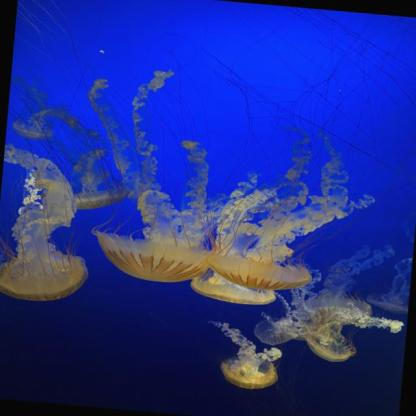jellyfish: (90, 230, 216, 287), (0, 248, 90, 306), (206, 253, 314, 292), (188, 264, 277, 307), (220, 352, 280, 391), (302, 322, 354, 364), (58, 184, 130, 214), (296, 296, 372, 324), (252, 315, 303, 346), (363, 297, 408, 316), (13, 121, 55, 141)
